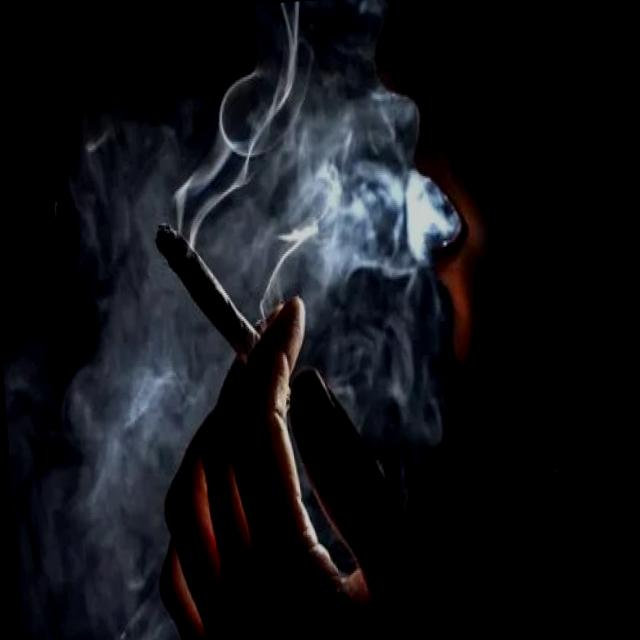smoke: (151, 210, 268, 372)
